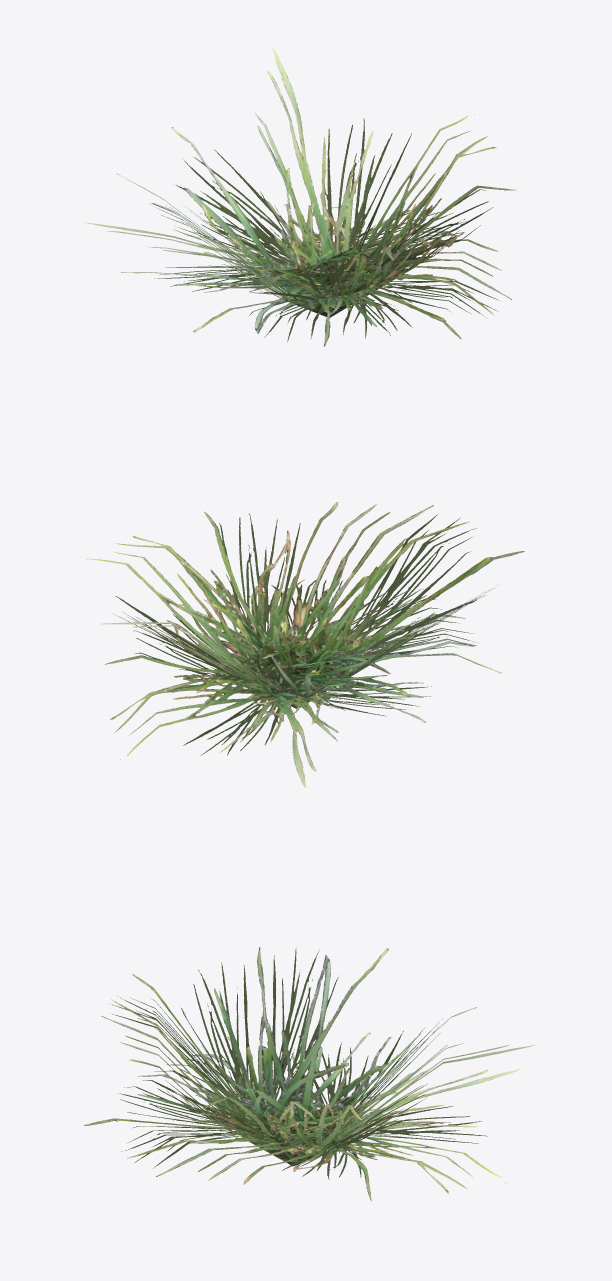
The model's file is plant07.fbx.
3 views of the same model, one above another, from view 1: azimuth 30°, elevation 25°; view 2: azimuth 150°, elevation 25°; view 3: azimuth 270°, elevation 25° (orthographic). The views are drawn at different scales.
Visible parts, largest first — view 1: plant07; view 2: plant07; view 3: plant07.
Part boxes in pixels (bbox=[...]): plant07: bbox=[83, 47, 516, 346]; plant07: bbox=[86, 502, 524, 787]; plant07: bbox=[84, 947, 536, 1200].
Bounding box in the file's own units: 0.8722 × 0.3739 × 0.8582.
